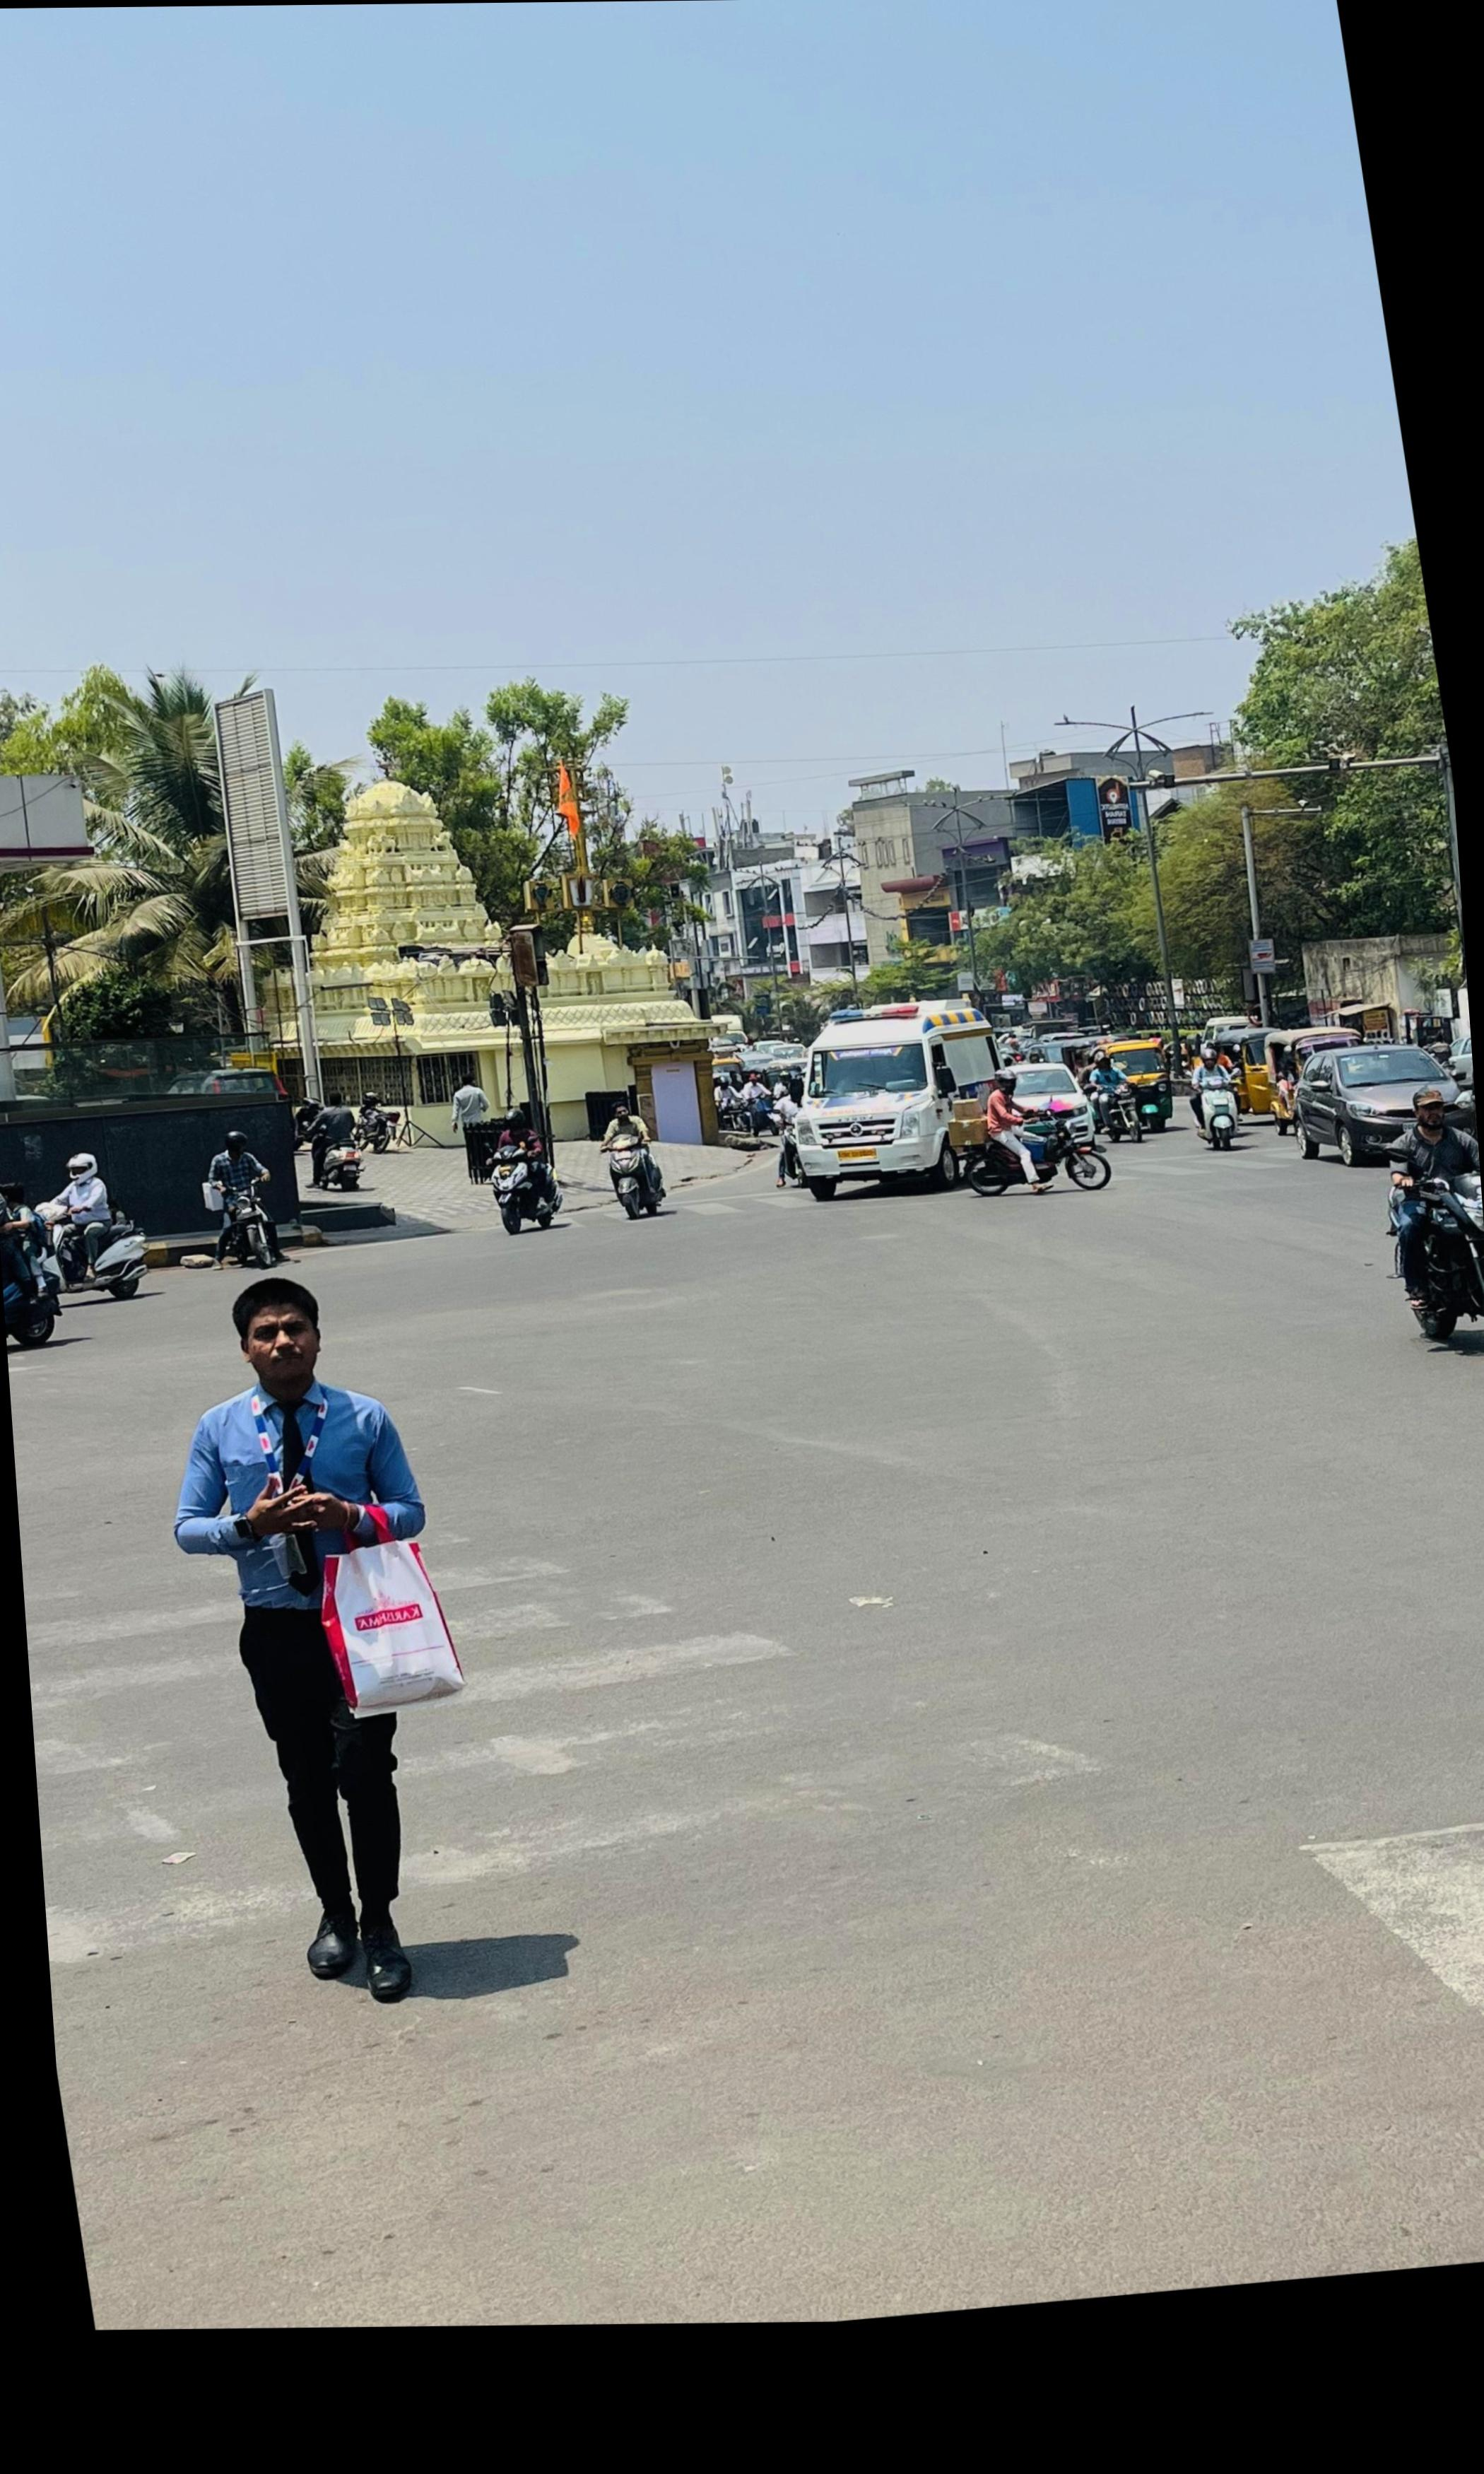ambulance: (784, 1000, 1002, 1200)
